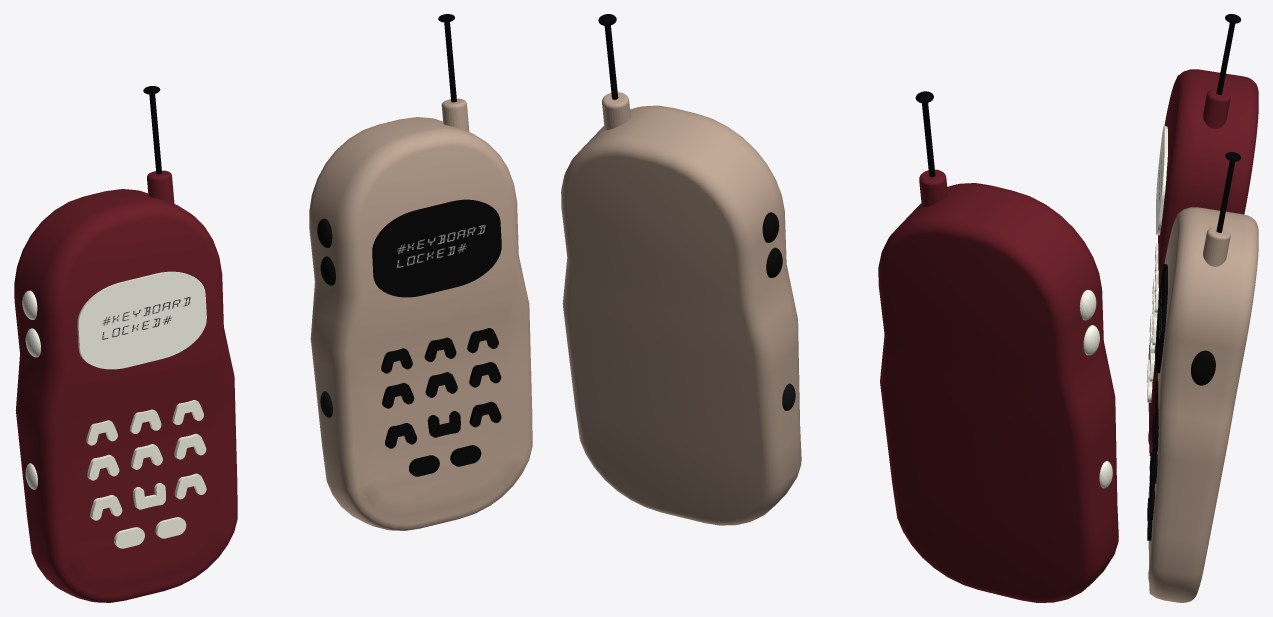
The model's file is project-04.glb.
3 views of the same model, side by side, from view 1: azimuth 30°, elevation 25°; view 2: azimuth 150°, elevation 25°; view 3: azimuth 270°, elevation 25° (orthographic). The views are drawn at different scales.
Visible parts, largest first — view 1: CELL BODY.001, CELL BODY, SCREEN.001, SCREEN, TEXT.001, TEXT, ANTENNA CONN., ANTENNA CONN..001; view 2: CELL BODY.001, CELL BODY, ANTENNA CONN., ANTENNA CONN..001; view 3: CELL BODY.001, CELL BODY, TEXT.001, TEXT, ANTENNA CONN..001, ANTENNA CONN., SCREEN.001, SCREEN, Sphere.006, ANT BODY.001, ANT BODY.
Boxes of the visible parts, left/top/right/bottom form: CELL BODY.001: left=309, top=117, right=532, bottom=530; CELL BODY: left=14, top=189, right=237, bottom=602; SCREEN.001: left=372, top=199, right=501, bottom=297; SCREEN: left=77, top=271, right=206, bottom=369; TEXT.001: left=381, top=328, right=501, bottom=476; TEXT: left=86, top=400, right=206, bottom=548; ANTENNA CONN.: left=147, top=170, right=174, bottom=203; ANTENNA CONN..001: left=441, top=98, right=469, bottom=131; CELL BODY.001: left=561, top=105, right=801, bottom=525; CELL BODY: left=878, top=183, right=1118, bottom=602; ANTENNA CONN.: left=919, top=169, right=947, bottom=207; ANTENNA CONN..001: left=602, top=92, right=630, bottom=129; CELL BODY.001: left=1148, top=207, right=1258, bottom=602; CELL BODY: left=1148, top=69, right=1258, bottom=456; TEXT.001: left=1147, top=381, right=1158, bottom=540; TEXT: left=1147, top=243, right=1158, bottom=402; ANTENNA CONN..001: left=1203, top=227, right=1230, bottom=266; ANTENNA CONN.: left=1203, top=89, right=1230, bottom=128; SCREEN.001: left=1156, top=264, right=1167, bottom=373; SCREEN: left=1156, top=126, right=1167, bottom=235; Sphere.006: left=1191, top=350, right=1215, bottom=385; ANT BODY.001: left=1216, top=152, right=1240, bottom=232; ANT BODY: left=1216, top=14, right=1240, bottom=94.
Size of the model in its own units: 17.32 by 15.88 by 3.54.
Materials: 9 (2 with a texture image).
